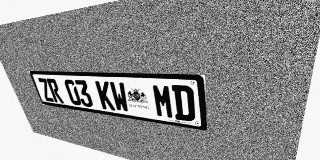0: (63, 79, 82, 106)
3: (74, 80, 94, 108)
D: (171, 85, 195, 122)
K: (95, 81, 116, 111)
M: (151, 84, 175, 119)
R: (46, 78, 64, 103)
W: (109, 82, 130, 113)
Z: (37, 78, 55, 102)
